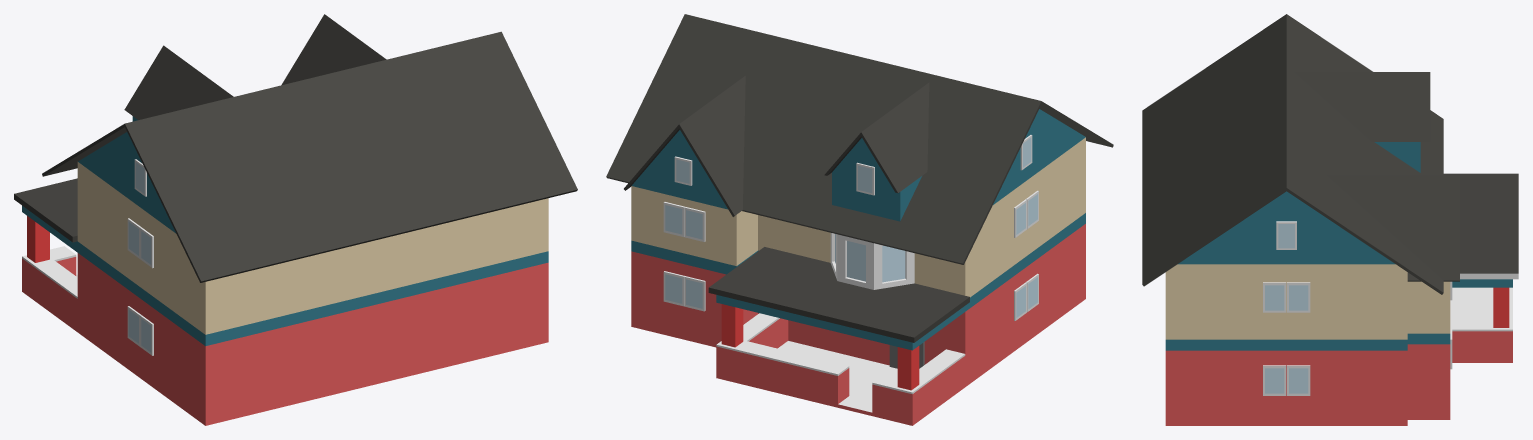
The model's file is building.fbx.
3 renders of one model, left to right at view 1: azimuth 30°, elevation 25°; view 2: azimuth 150°, elevation 25°; view 3: azimuth 270°, elevation 25°, orthographic. The views are drawn at different scales.
Parts seen in each view (by area): view 1: Building_1; view 2: Building_1; view 3: Building_1.
Boxes of the visible parts, x1=… form: Building_1: x1=14, y1=14, x2=577, y2=425; Building_1: x1=606, y1=14, x2=1113, y2=425; Building_1: x1=1142, y1=14, x2=1518, y2=425.
Size of the model in its own units: 20.77 by 13.69 by 19.01.
1 material, 1 textured.
